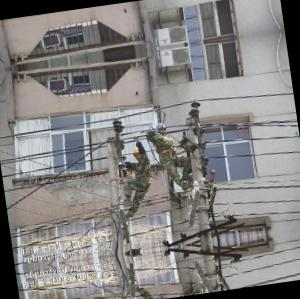helmet: (154, 121, 170, 140), (131, 144, 147, 162)
